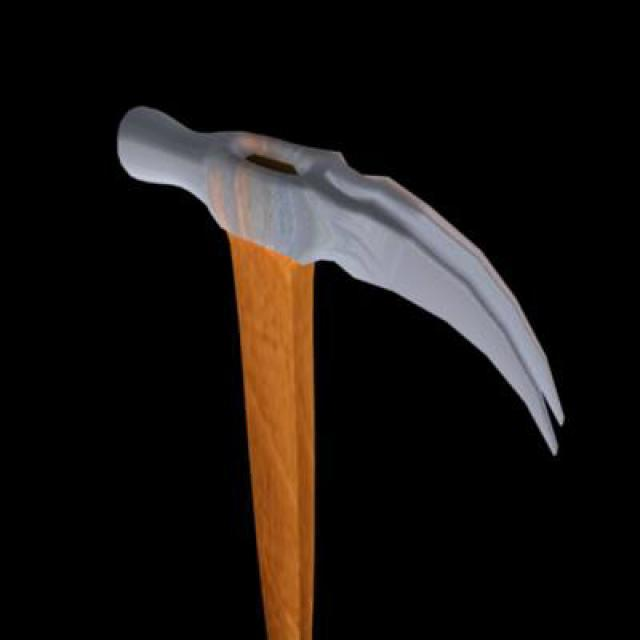hammer: (100, 89, 584, 640)
